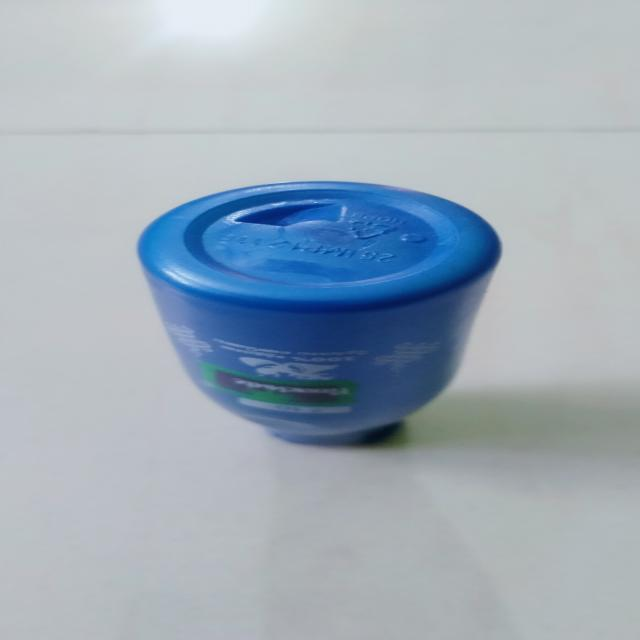oil: (124, 166, 512, 468)
